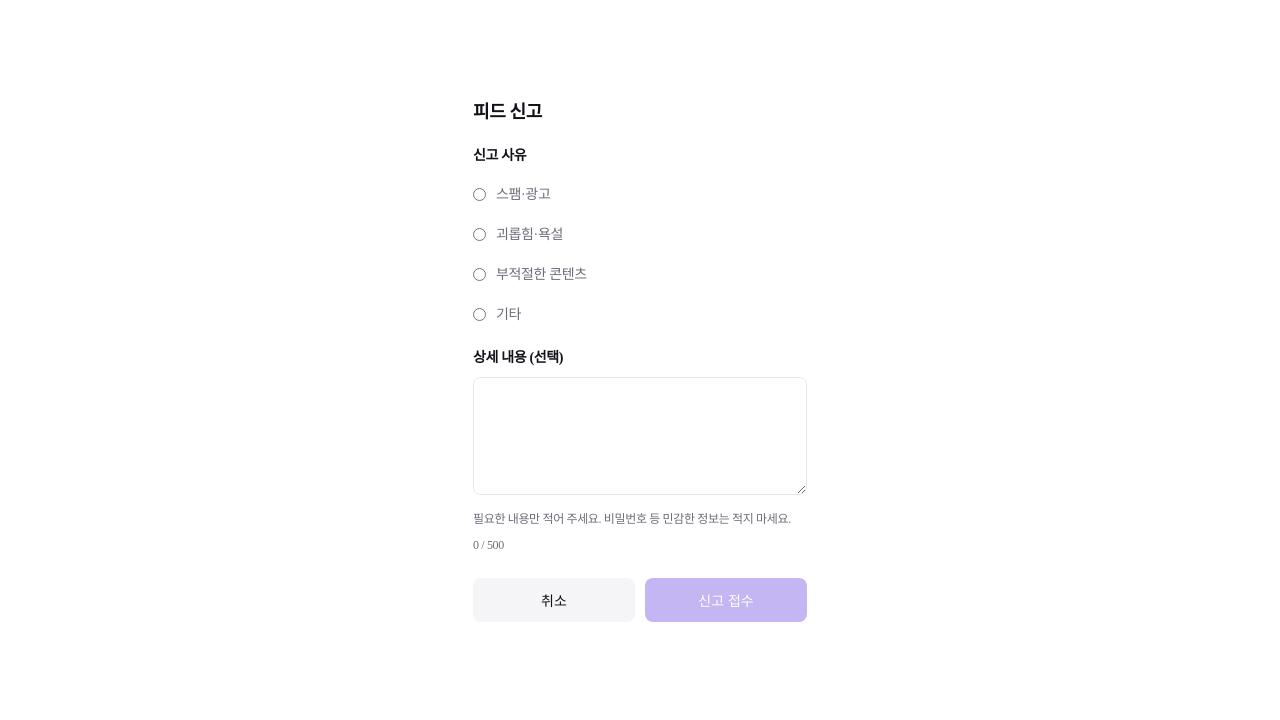
Test: 신고 입력과 접수 결과 › 실패해도 입력을 유지하고 재시도 후 닫으며 중복 접수 토스트로 알린다
Step 1. Click the radio button labelled "괴롭힘·욕설" → (480, 234), box [473,228,486,241]
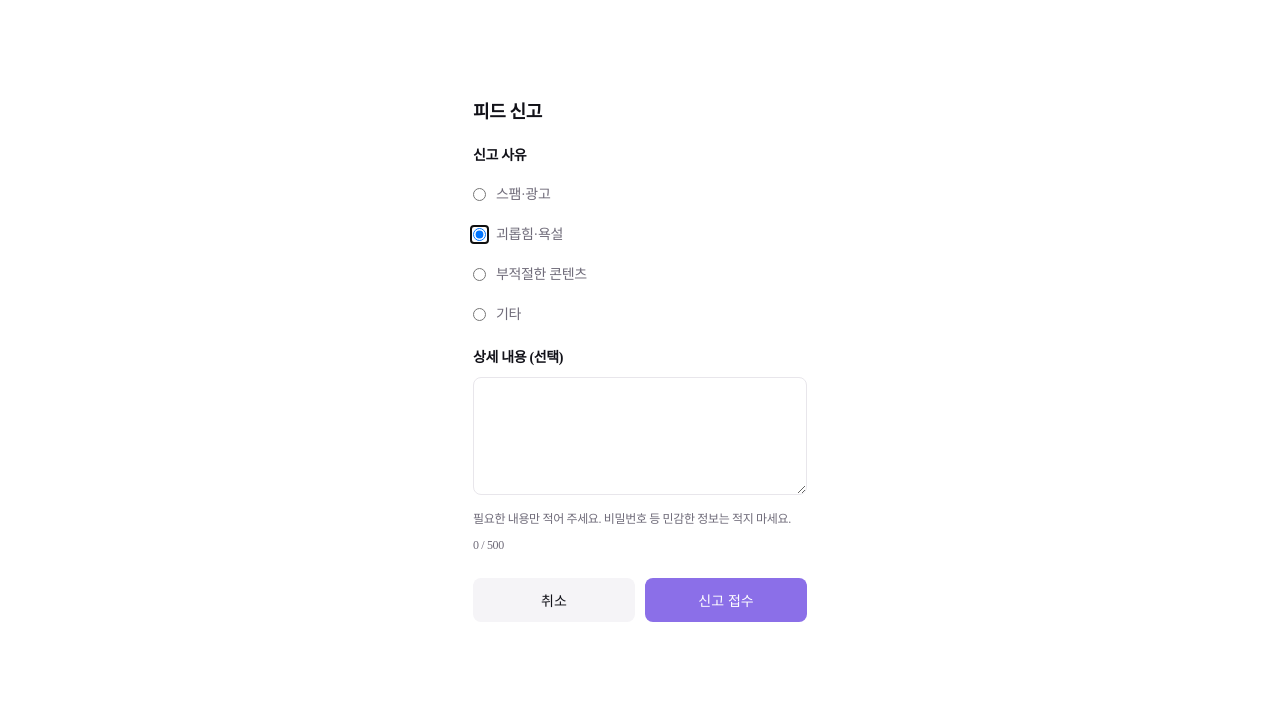
Step 2. Type "댓글에서 욕설을 반복해요." into the text box → (640, 436), box [473,376,807,494]
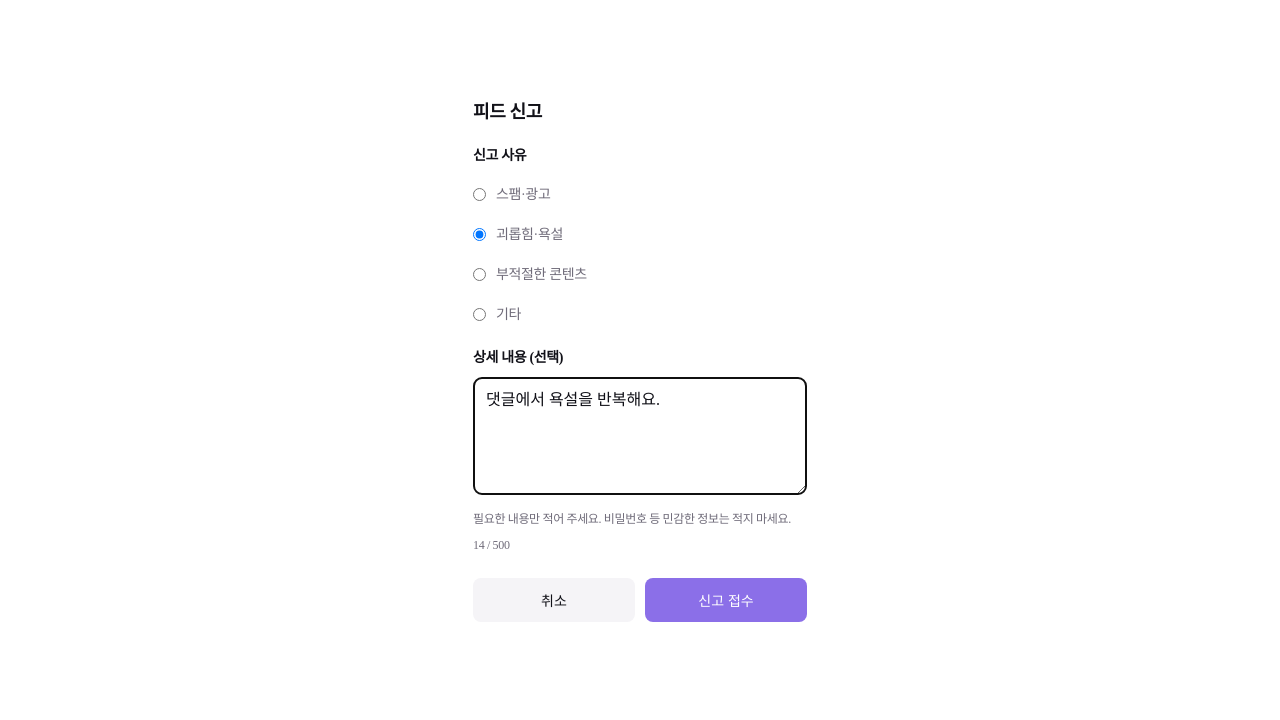
Step 3. Click the button "신고 접수" → (726, 600), box [645,578,807,622]
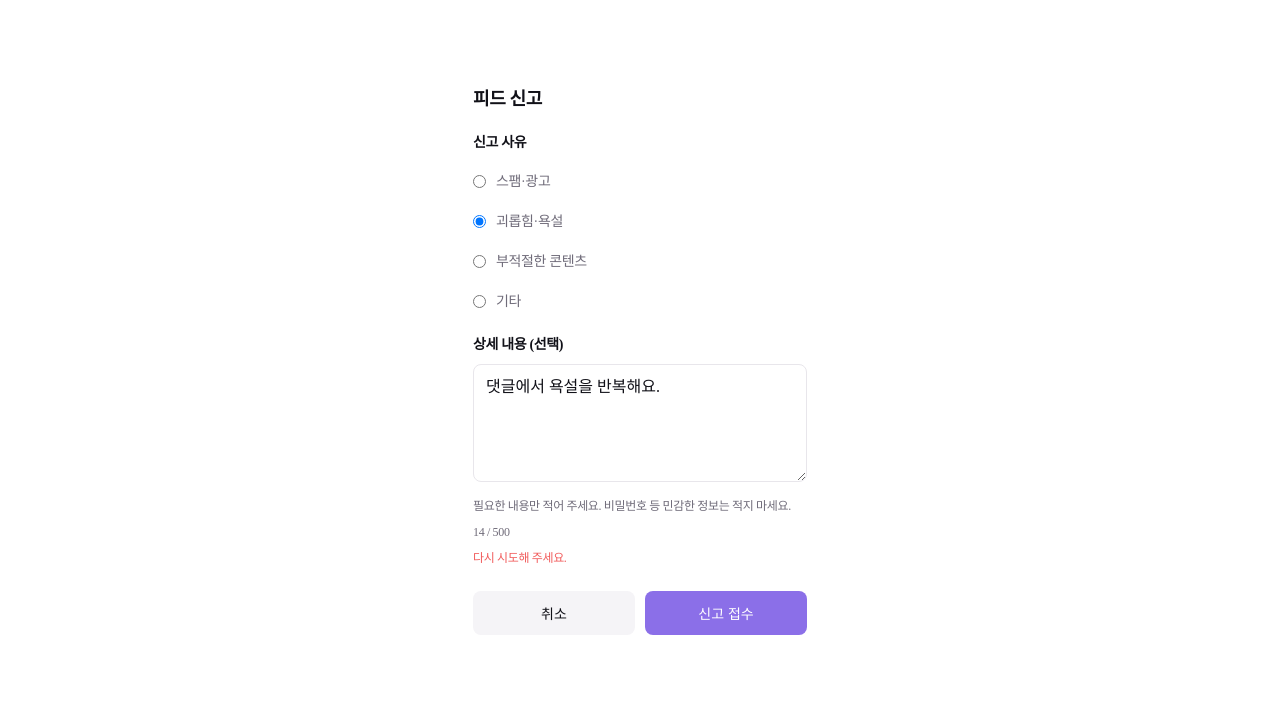
Result: the radio button labelled "괴롭힘·욕설" is checked at [473,215,486,228]
Result: the message reads "다시 시도해 주세요." at [473,550,566,564]
Step 4. Click the button "신고 접수" → (726, 612), box [645,590,807,634]
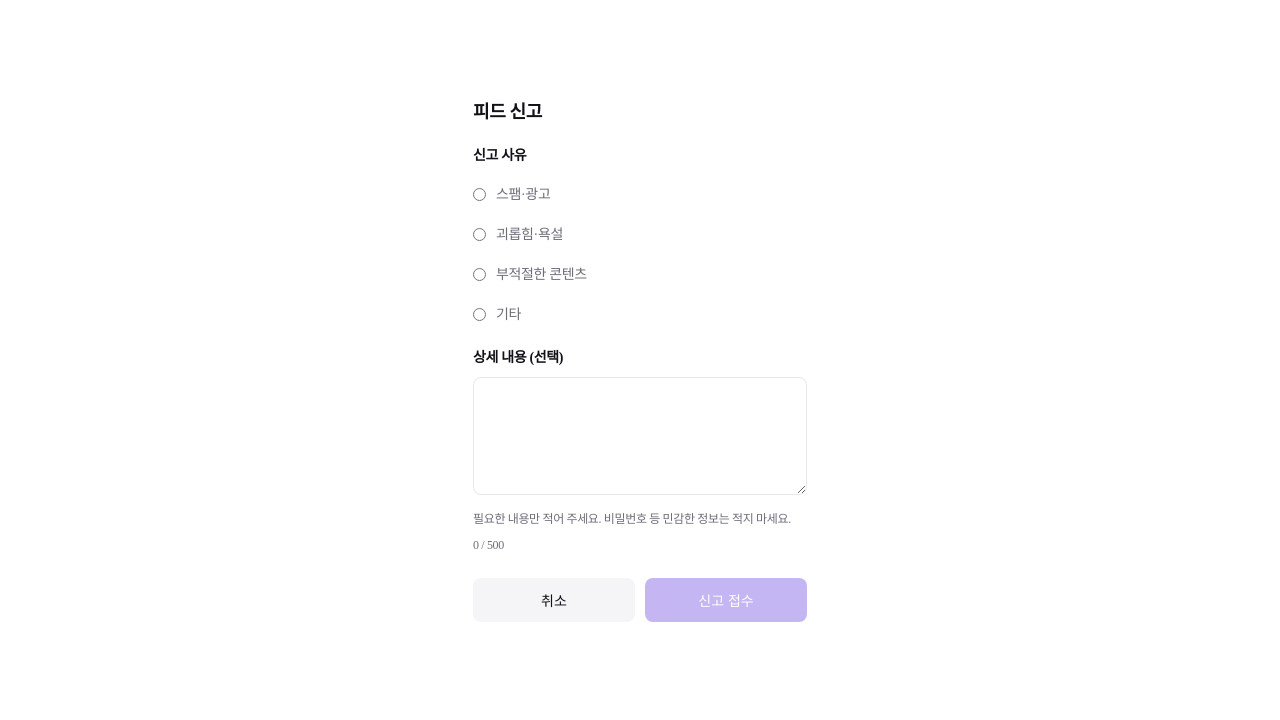
Result: the message "다시 시도해 주세요." is gone
Result: the text box is empty at [473,376,807,494]
